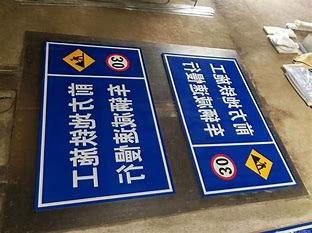sign: (34, 37, 166, 207), (163, 37, 301, 198)
